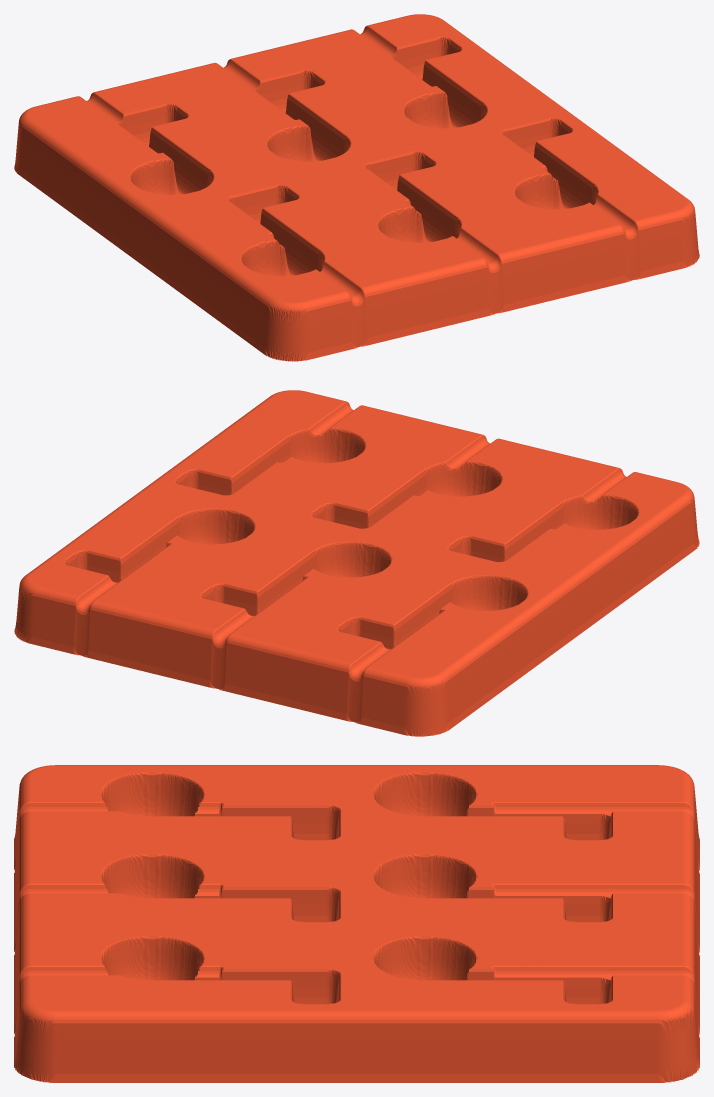
Rendered from mold.glb.
3 renders of one model, top to bottom at view 1: azimuth 30°, elevation 25°; view 2: azimuth 150°, elevation 25°; view 3: azimuth 270°, elevation 25°, orthographic. The views are drawn at different scales.
Visible parts, largest first — view 1: geometry_0; view 2: geometry_0; view 3: geometry_0.
Boxes of the visible parts, x1,y1,x2,y2 form: geometry_0: (14, 14, 699, 361); geometry_0: (14, 390, 699, 736); geometry_0: (14, 765, 699, 1082).
Size of the model in its own units: 0.1317 by 0.0155 by 0.1477.
